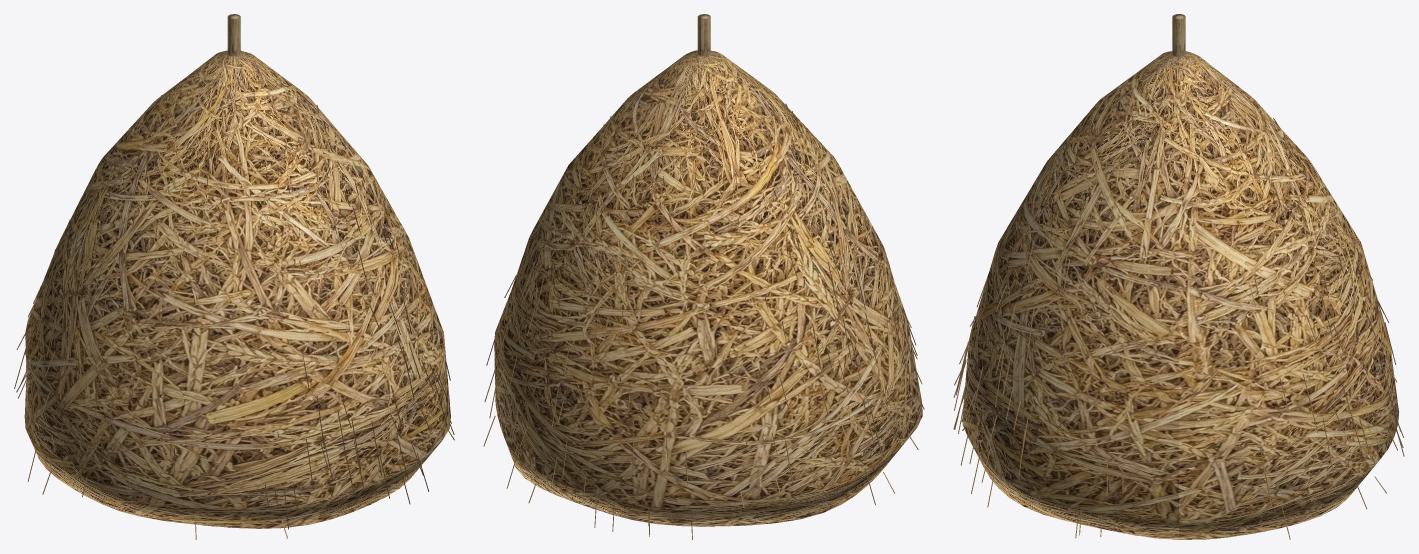
The model's file is prop_haystack.glb.
The picture shows the model from 3 angles, left to right: view 1: azimuth 30°, elevation 25°; view 2: azimuth 150°, elevation 25°; view 3: azimuth 270°, elevation 25°; orthographic projection. The views are drawn at different scales.
Visible parts, largest first — view 1: prop_haystack; view 2: prop_haystack; view 3: prop_haystack.
Part boxes in pixels (x1,y1,x2,y2): prop_haystack: (14, 14, 454, 539); prop_haystack: (483, 14, 924, 539); prop_haystack: (953, 14, 1404, 539).
Bounding box in the file's own units: 2.31 × 2.5 × 2.32.
Materials: 2 (2 with a texture image).
